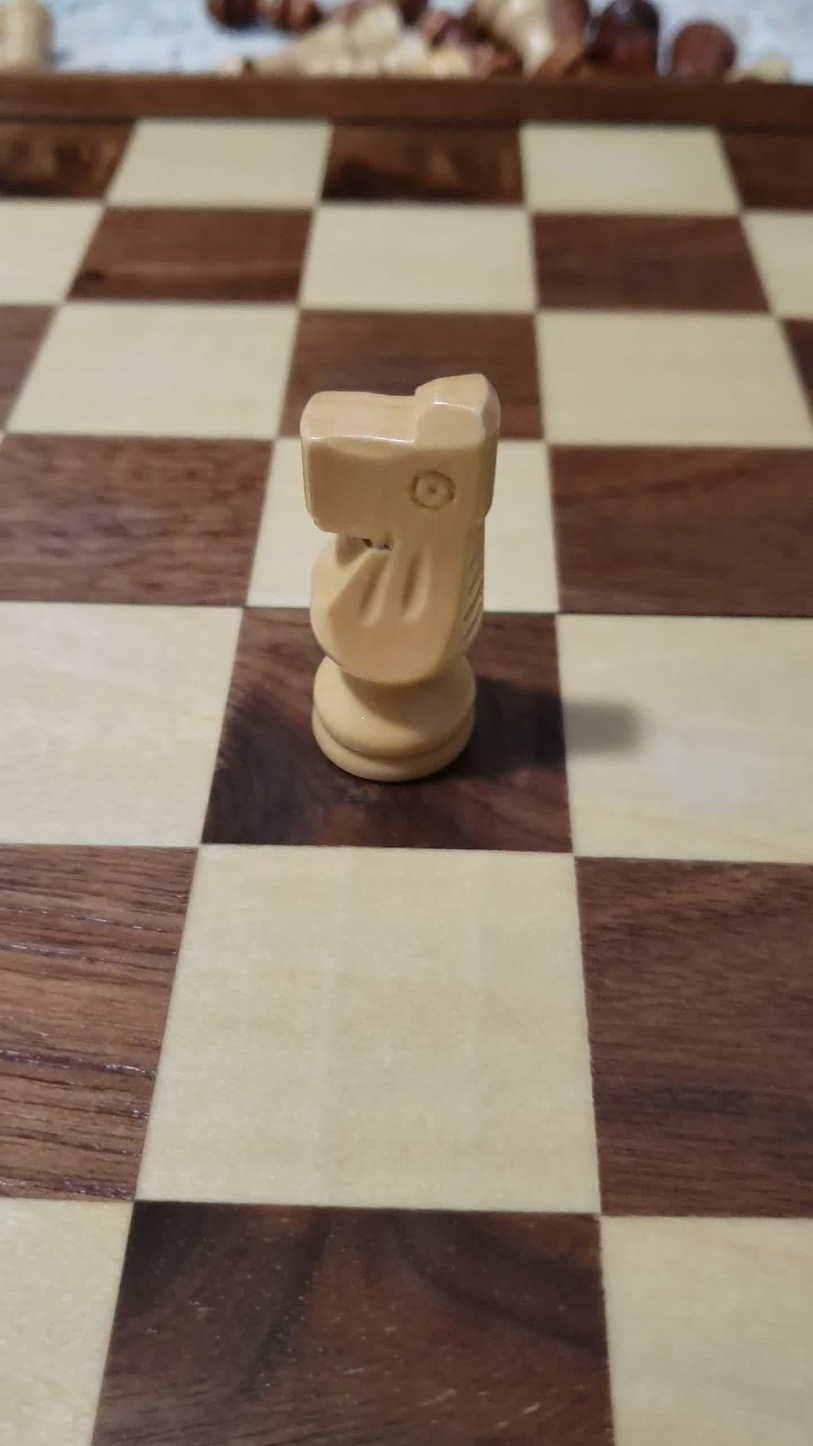white-knight: (271, 362, 561, 795)
